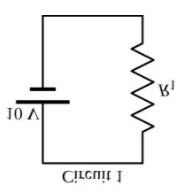Battery: (10, 71, 72, 106)
